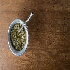guampa: (7, 15, 33, 53)
